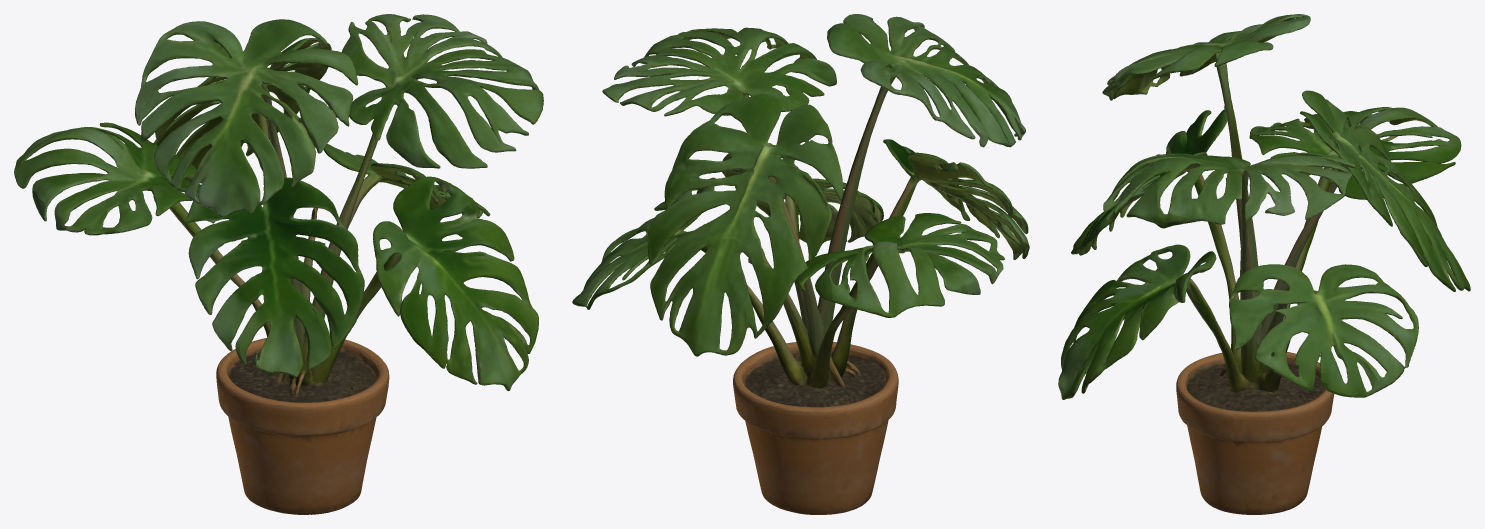
File: item_e34fa6a1.glb
The picture shows the model from 3 angles, left to right: view 1: azimuth 30°, elevation 25°; view 2: azimuth 150°, elevation 25°; view 3: azimuth 270°, elevation 25°; orthographic projection. The views are drawn at different scales.
Parts seen in each view (by area): view 1: world; view 2: world; view 3: world.
Boxes of the visible parts, x1,y1,x2,y2 form: world: (14,14,543,514); world: (572,14,1029,514); world: (1058,14,1470,514).
Size of the model in its own units: 0.8562 by 0.95 by 0.8025.
Materials: 1 (1 with a texture image).
